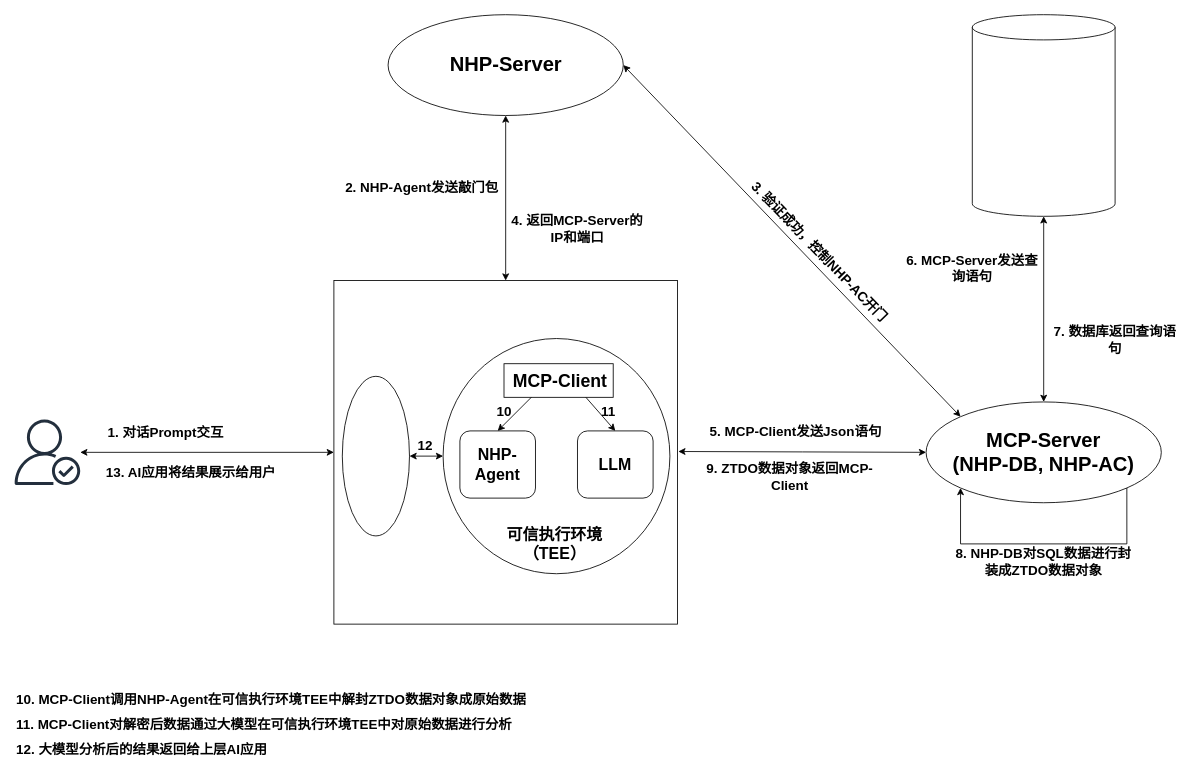
Image size: 1196x777. Some labels were removed from this diagram. The box of each missing label's shape, as (x1, y1, x2, y2) in pixels:
AI应用: (341, 375, 410, 536)
数据库: (971, 14, 1115, 216)
